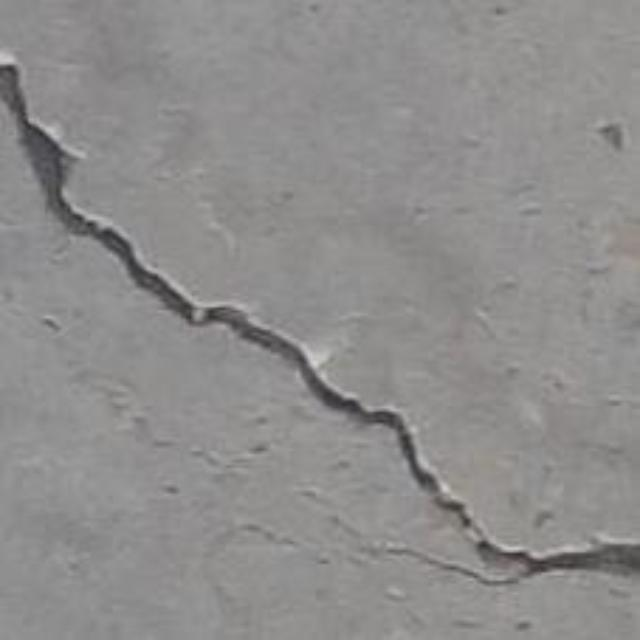crack: (0, 65, 639, 572)
